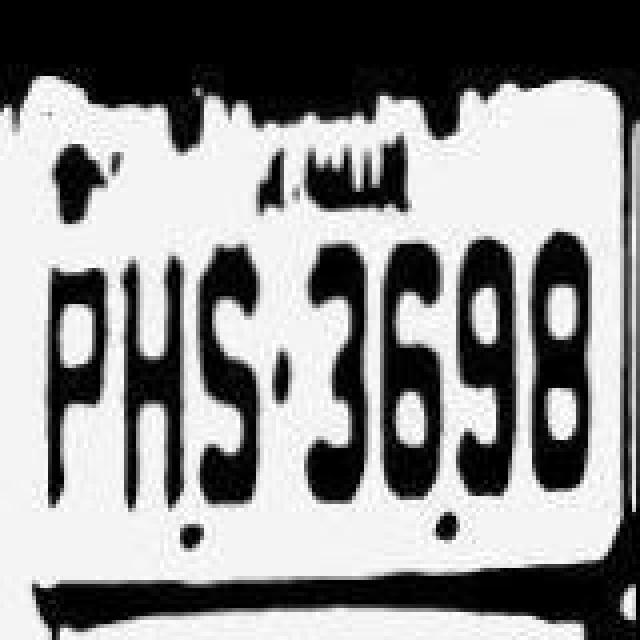3: (298, 232, 378, 508)
6: (380, 228, 448, 512)
8: (530, 226, 602, 510)
9: (448, 218, 524, 506)
H: (118, 242, 190, 518)
P: (24, 258, 116, 526)
S: (192, 242, 268, 514)
